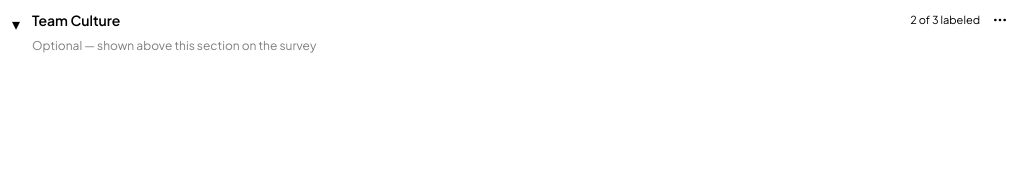
FormSectionCard — ⋯ menu dismissal (T12 review fix) › closes the menu on an outside mousedown
Step 1. Click the button with test id "section-menu-S1" → point(1000, 20), box [988,8,1012,32]
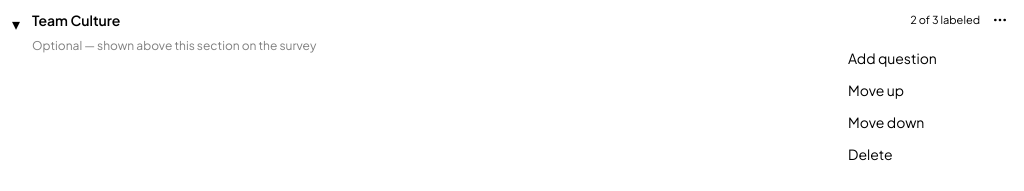
Expected: the element with test id "section-menu-S1-panel" is shown, [836,38,1012,174]
Step 2. Press the mouse on the element showing "▾ 2 of 3 labeled Add question Move up Move down Delete" → point(512, 32), box [0,0,1023,64]
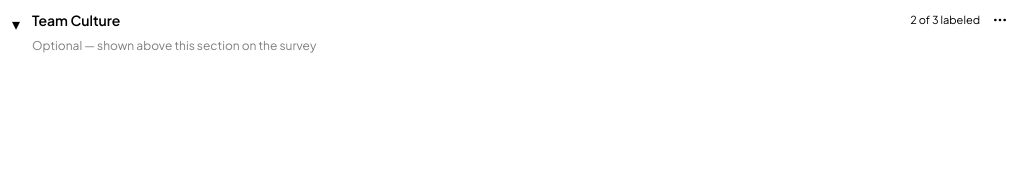
Expected: the element with test id "section-menu-S1-panel" is gone
